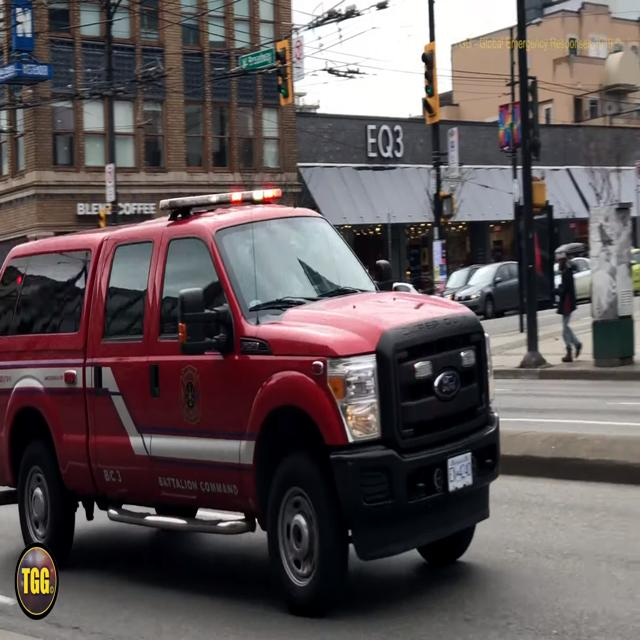emergency-vehicles: (0, 175, 507, 603)
